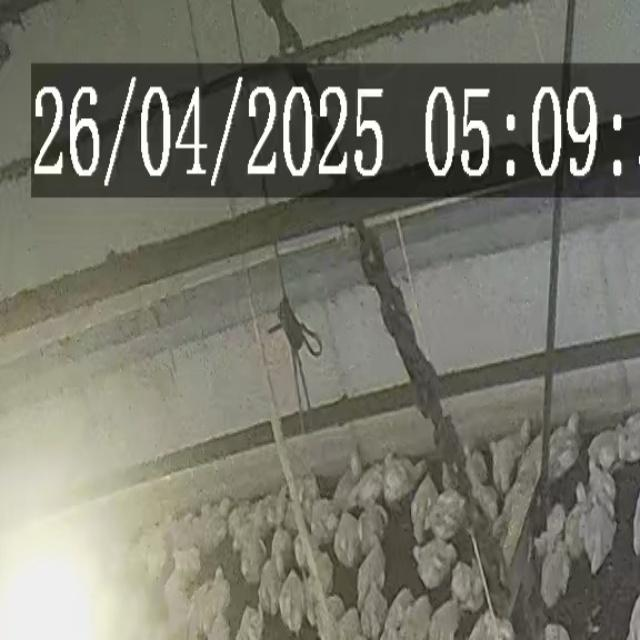chicken: (498, 478, 537, 550), (163, 559, 195, 633), (356, 542, 388, 615), (543, 416, 581, 477), (584, 502, 617, 570), (512, 432, 546, 494), (332, 508, 367, 568), (561, 486, 589, 557), (538, 543, 568, 607), (354, 504, 388, 560), (585, 458, 617, 517), (424, 492, 464, 538), (410, 475, 437, 543), (381, 589, 417, 640), (306, 553, 332, 621), (169, 538, 204, 588), (384, 458, 423, 502), (278, 568, 306, 629), (540, 501, 568, 560), (141, 528, 171, 582), (413, 544, 451, 586), (451, 562, 484, 610), (401, 594, 435, 640), (258, 555, 284, 615), (464, 609, 513, 640), (490, 423, 532, 459), (309, 496, 341, 543), (427, 596, 460, 640), (582, 432, 620, 470), (332, 457, 362, 505), (270, 526, 295, 583), (202, 504, 230, 554), (239, 531, 265, 583), (355, 463, 385, 507), (362, 585, 386, 640), (191, 582, 216, 634), (616, 410, 640, 463), (467, 477, 498, 518), (293, 472, 321, 517), (208, 568, 232, 614), (316, 596, 345, 634), (292, 531, 316, 576), (488, 449, 512, 492), (236, 605, 264, 640), (335, 606, 363, 640), (460, 442, 485, 480), (227, 505, 248, 541), (209, 613, 232, 640), (544, 622, 572, 640)
